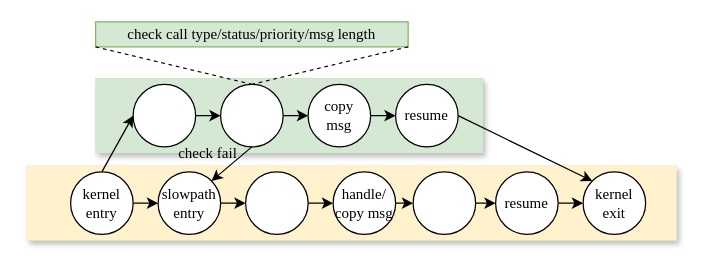
This 705x271 diagram has some shape labels left out. The shapes that lost their labels are listed below. From the top down, each one's centre as x and y in pixels, then its label:
At (x=164, y=115): "fastpath entry".
At (x=251, y=115): "check".
At (x=276, y=202): "decode".
At (x=444, y=202): "schedule".
